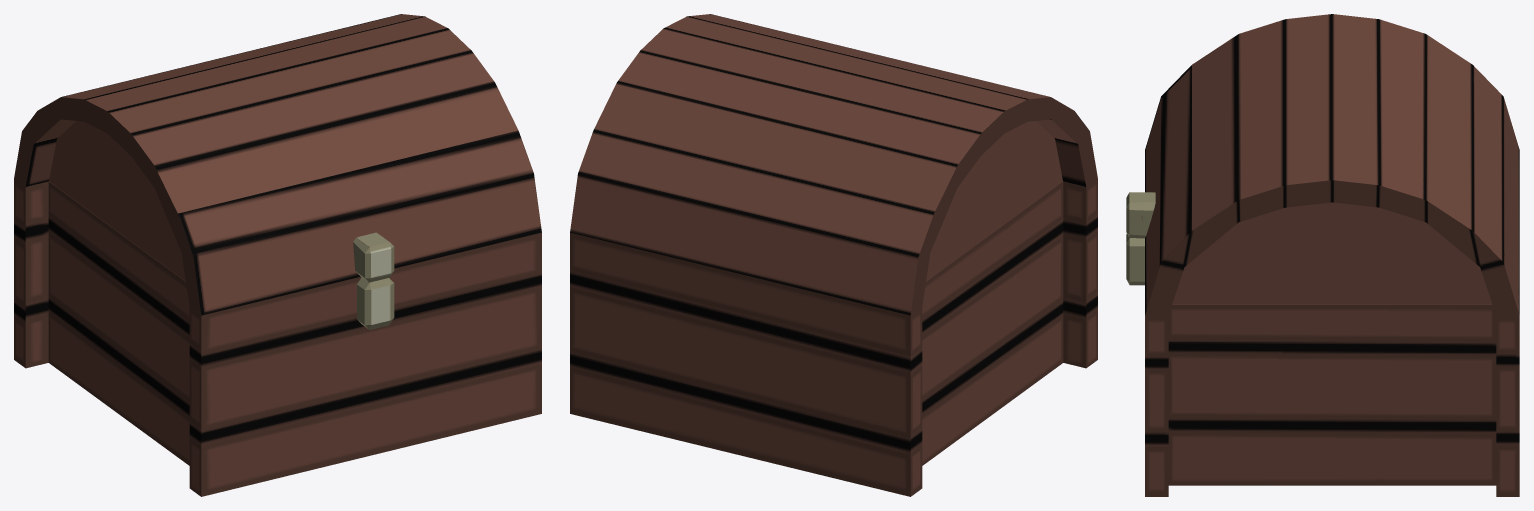
Rendered from Rounded Chest.gltf.
3 views of the same model, side by side, from view 1: azimuth 30°, elevation 25°; view 2: azimuth 150°, elevation 25°; view 3: azimuth 270°, elevation 25° (orthographic).
Parts seen in each view (by area): view 1: Lid, Chest; view 2: Lid, Chest; view 3: Lid, Chest.
Boxes of the visible parts, <box> form: Lid: <box>14,14,541,315</box>; Chest: <box>14,179,541,496</box>; Lid: <box>570,14,1097,315</box>; Chest: <box>570,179,1097,496</box>; Lid: <box>1126,14,1519,315</box>; Chest: <box>1126,234,1519,496</box>.
Bounding box in the file's own units: 1 × 0.8891 × 1.
Materials: 1 (1 with a texture image).
